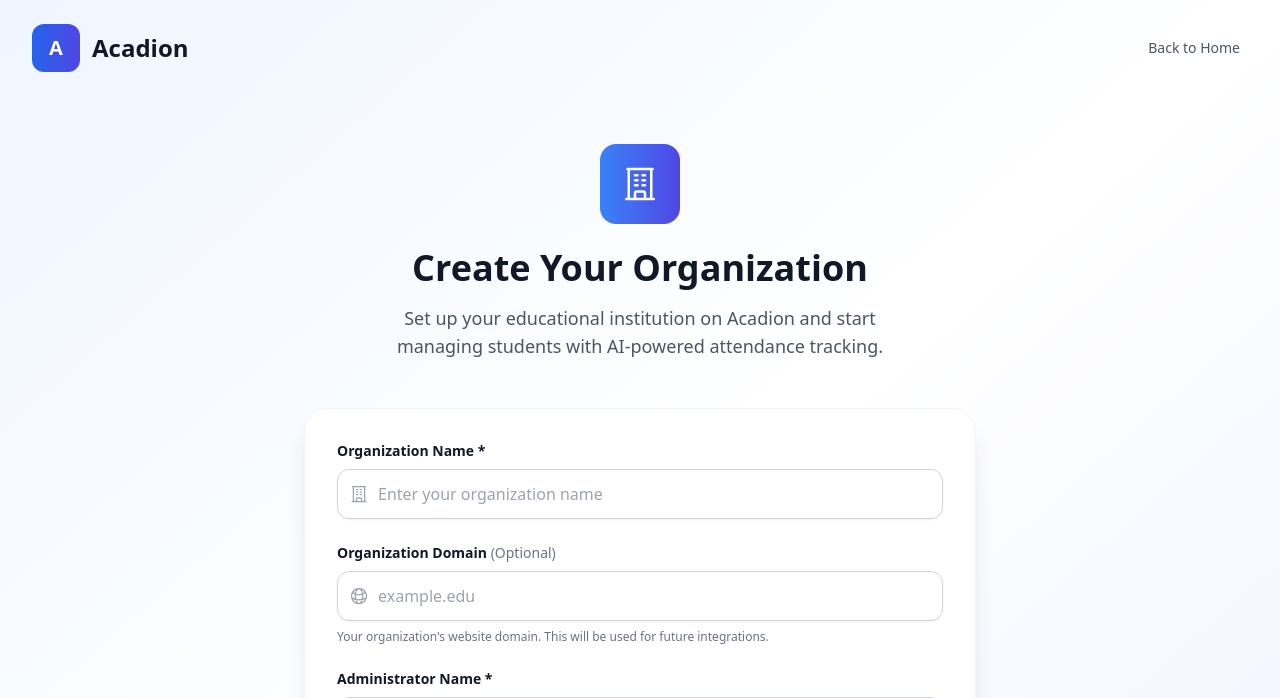
Test: OrganizationOnboarding Accessibility › Screen Reader Support › should announce loading states properly
The image size is (1280, 698).
Type "Test University" into the field labelled "Organization Name *" at {"x": 640, "y": 494}, box [337, 469, 943, 519]
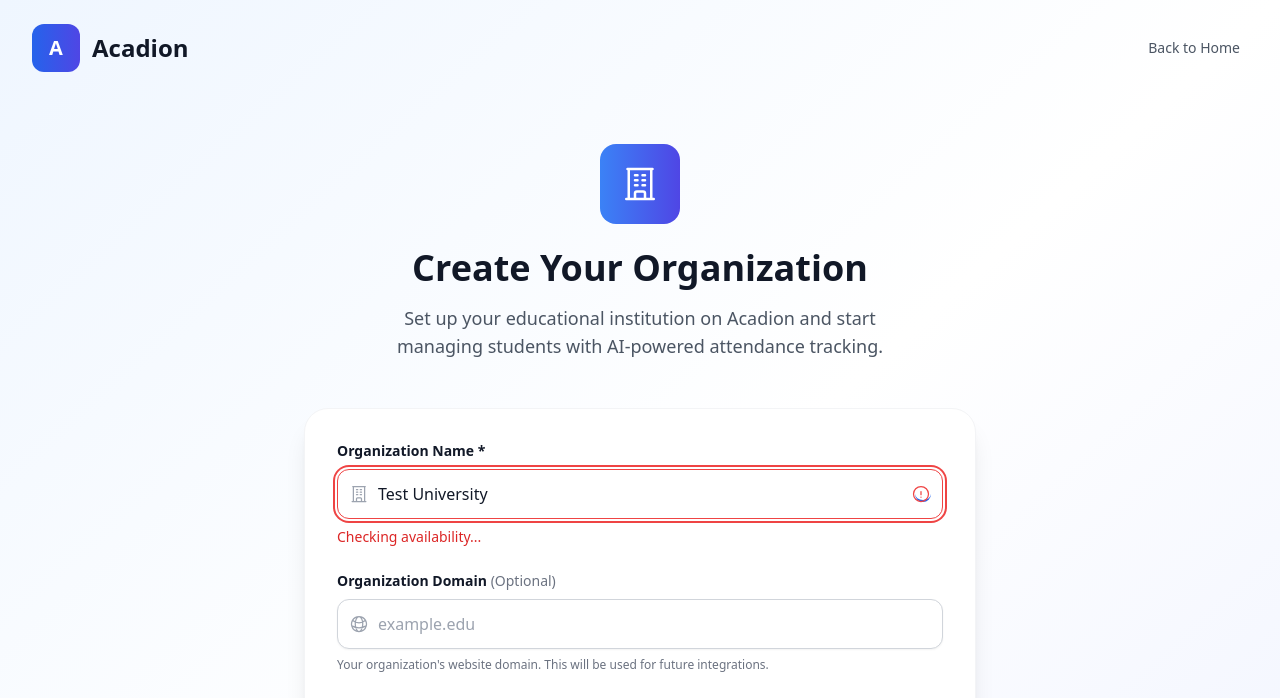
expect the message "Checking availability..." is shown: met, box [337, 527, 481, 547]
